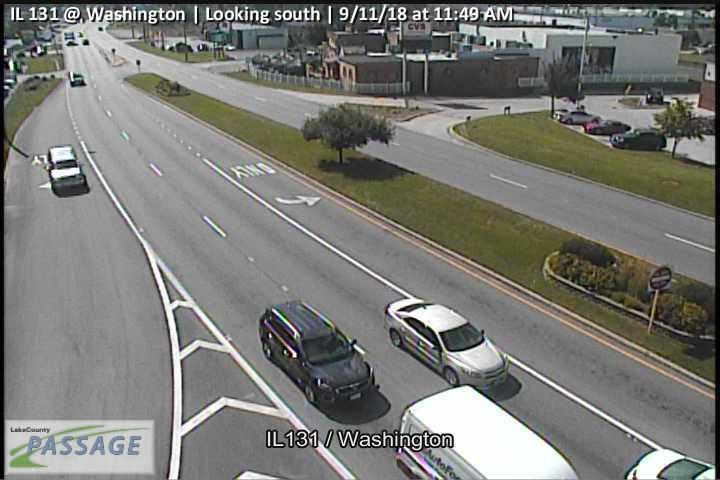SUV: (259, 299, 374, 406), (47, 146, 87, 195), (611, 127, 667, 152), (69, 70, 85, 87)
Sedan: (385, 296, 508, 390), (583, 118, 630, 135), (554, 107, 601, 124)
Truck: (395, 384, 579, 480)
